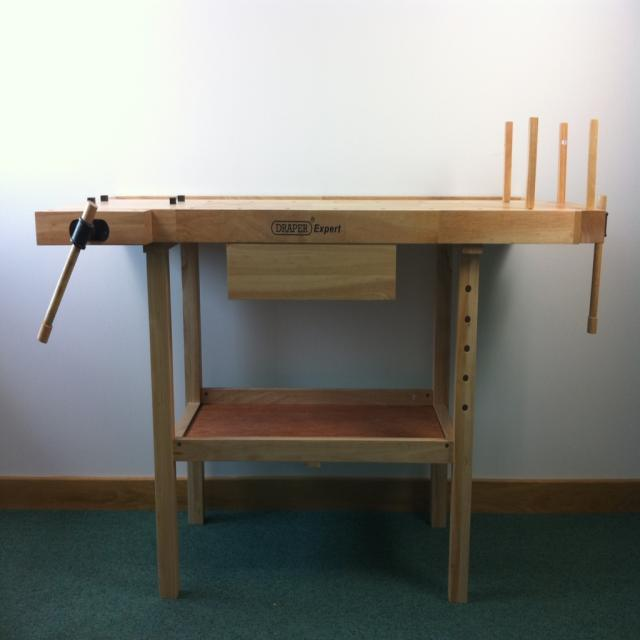desk: (69, 167, 590, 617)
